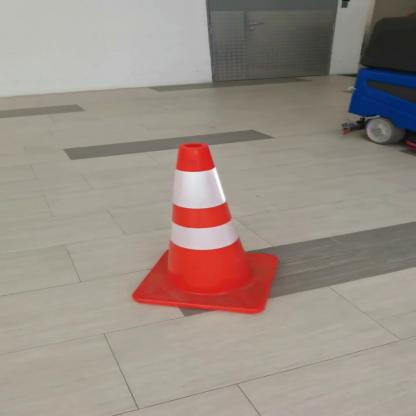cone: (110, 142, 320, 316)
